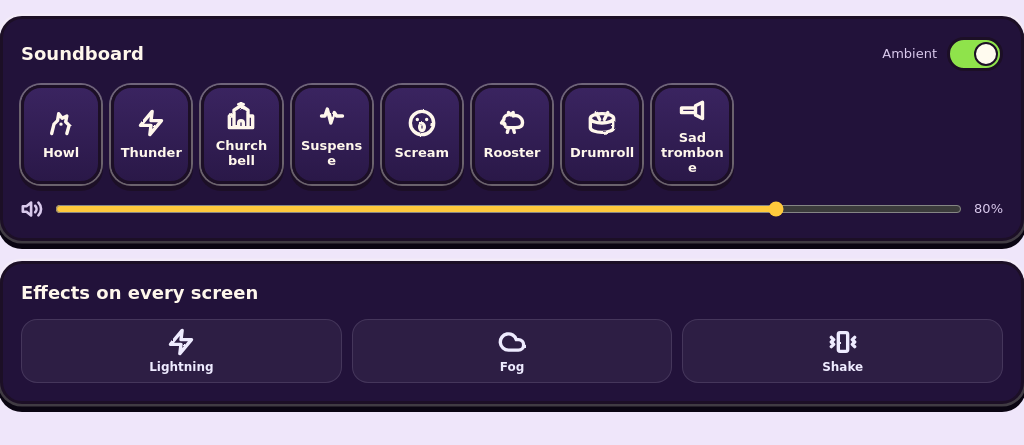
Test case: NarratorSoundboard › explains an unknown cue
This screenshot has width=1024, height=445.
Click the button with class "tile" showing "Scream" at [422, 134], box [382,85,462,184]
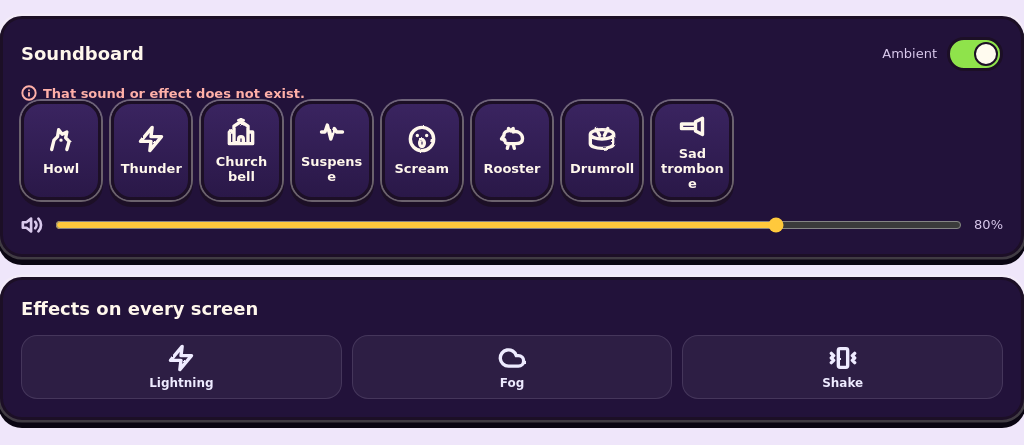
Expected: the message "That sound or effect does not exist." is shown, [21,85,305,101]
